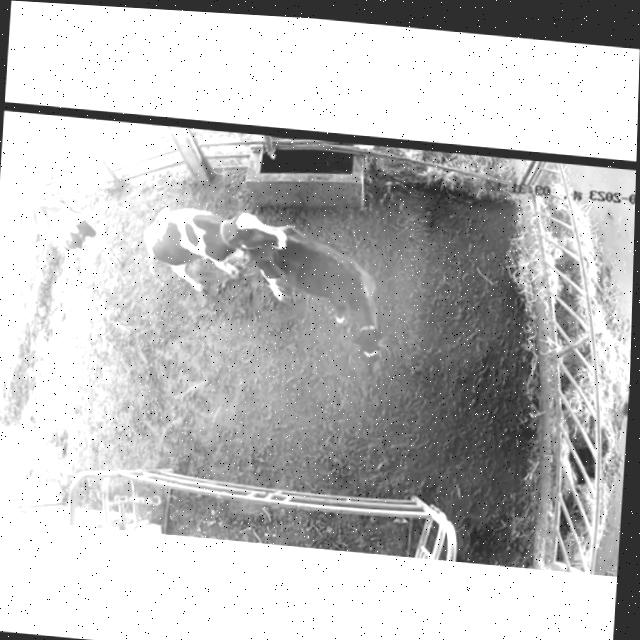propping: (215, 201, 306, 274)
